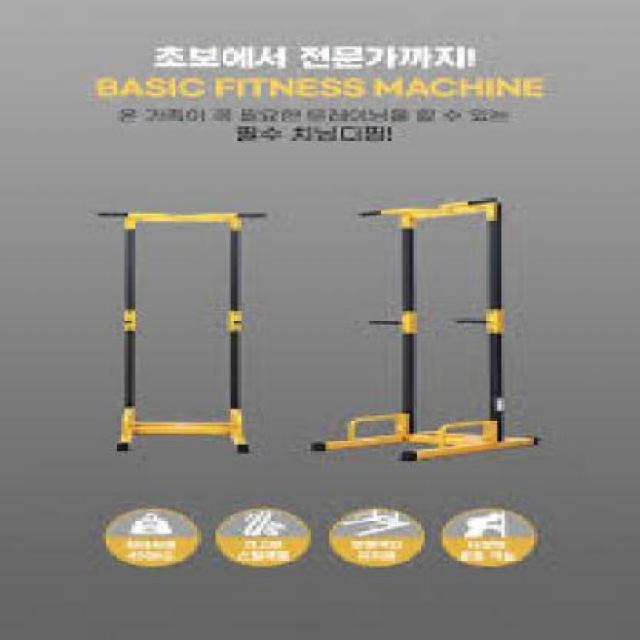chinning dipping: (308, 194, 543, 463), (95, 211, 272, 454)
